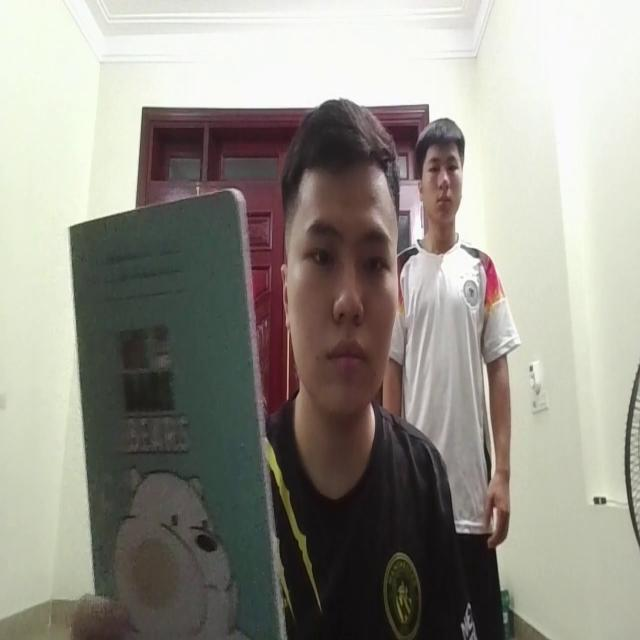book: (66, 195, 270, 640)
extra_person: (401, 100, 509, 557)
student: (269, 88, 406, 638)
